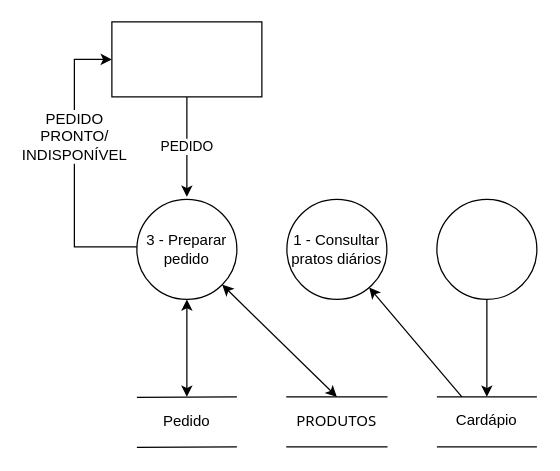
The diagram is 560 pixels wide and 471 high, and some of its shapes have lost their labels. The centre of each missing label's shape, as x and y in pixels:
2- Atualizar cardápio: (486,248)
ATENDIMENTO: (186,59)
